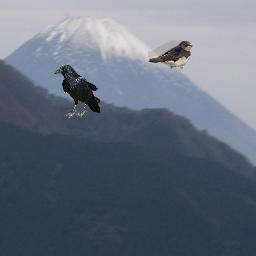Crow: (54, 64, 100, 118)
Swallow: (148, 40, 193, 69)
